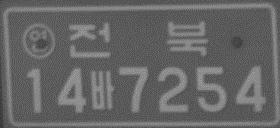1: (21, 67, 52, 114)
2: (156, 65, 189, 113)
4: (56, 67, 87, 114), (235, 66, 266, 112)
5: (195, 64, 227, 112)
7: (117, 65, 149, 112)
바: (88, 68, 114, 110)
영: (21, 22, 56, 60)
전북_D: (67, 19, 209, 60)
